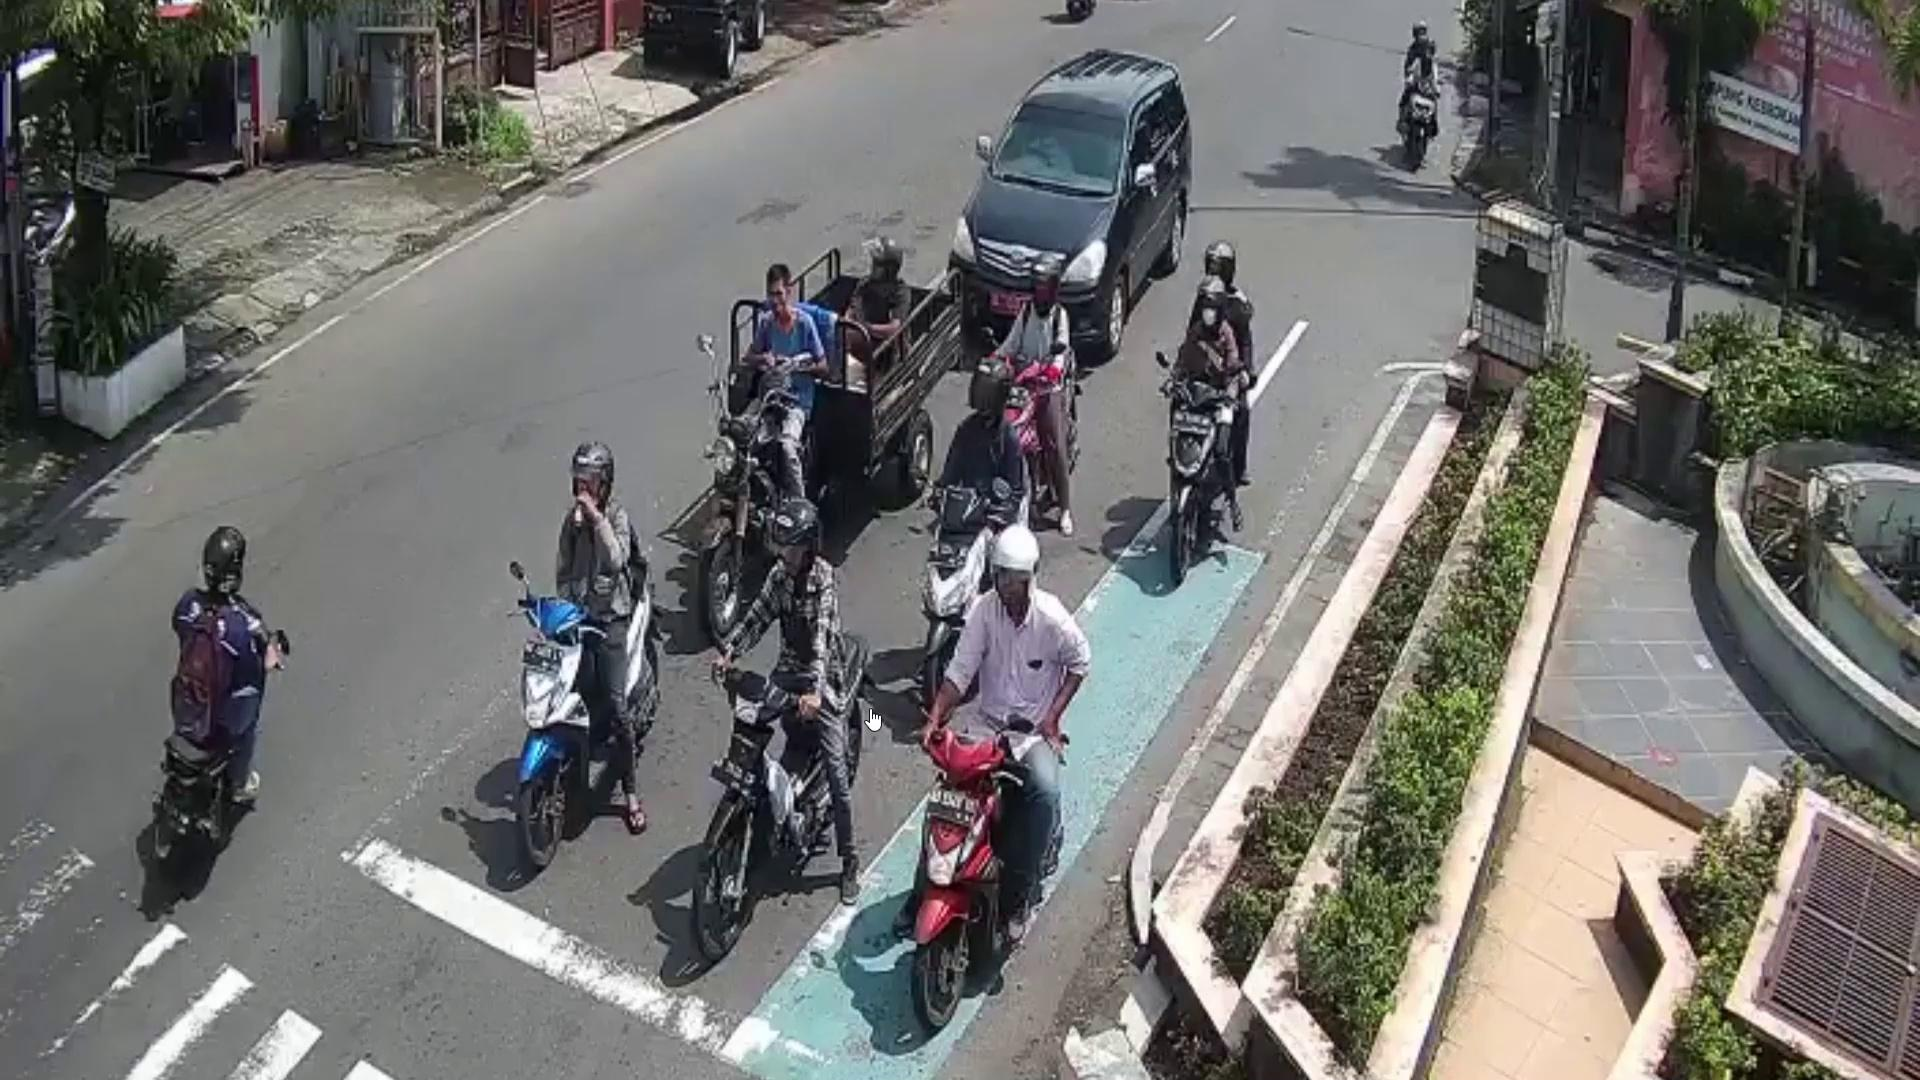car: (945, 49, 1191, 361)
motorbike: (691, 632, 872, 949), (901, 727, 1059, 1040), (517, 542, 661, 884), (148, 592, 276, 861), (700, 405, 812, 649), (1159, 378, 1225, 579), (924, 484, 985, 696), (1402, 74, 1440, 182)
